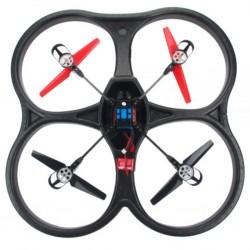drone: (1, 13, 243, 234)
